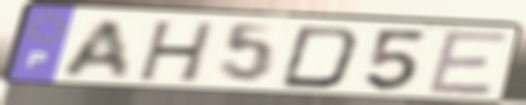5: (363, 26, 432, 95), (219, 21, 279, 89)
A: (57, 18, 133, 80)
D: (276, 24, 364, 92)
E: (424, 28, 512, 98)
H: (134, 20, 220, 86)
